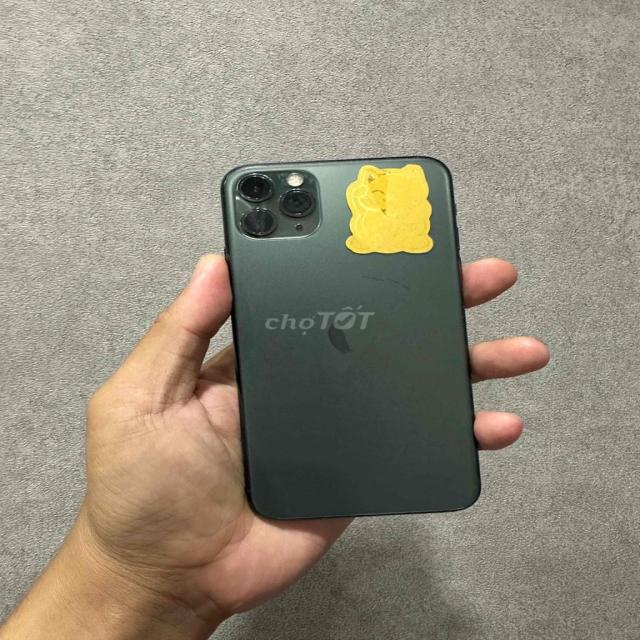gen_11: (217, 143, 490, 541)
